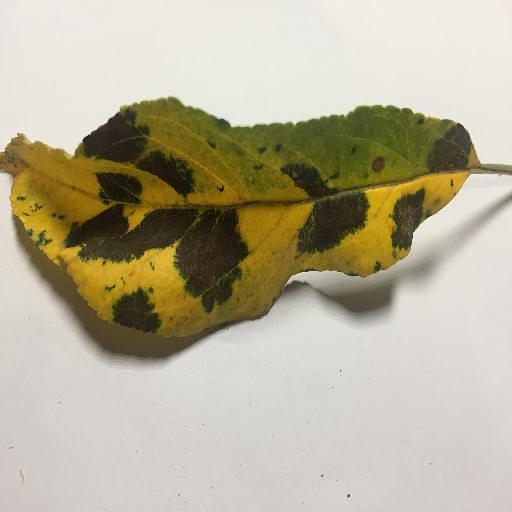Brown_Spot: (36, 117, 248, 331), (276, 153, 373, 254), (382, 188, 448, 260), (417, 114, 485, 176), (367, 153, 389, 176)
